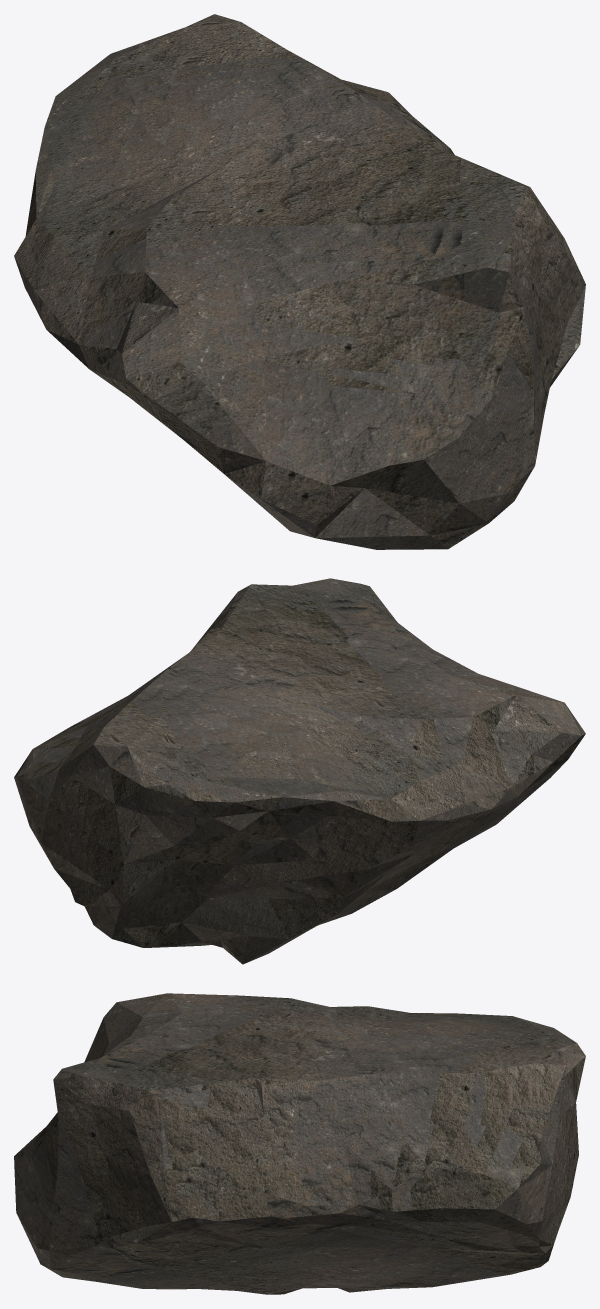
The model's file is piedra3.glb.
3 renders of one model, top to bottom at view 1: azimuth 30°, elevation 25°; view 2: azimuth 150°, elevation 25°; view 3: azimuth 270°, elevation 25°, orthographic. The views are drawn at different scales.
Visible parts, largest first — view 1: skp1AC; view 2: skp1AC; view 3: skp1AC.
Part boxes in pixels (x1,y1,x2,y2): skp1AC: (14,14,585,549); skp1AC: (14,578,585,964); skp1AC: (14,993,585,1294).
Size of the model in its own units: 0.4087 by 0.2666 by 0.5062.
1 material, 1 textured.
